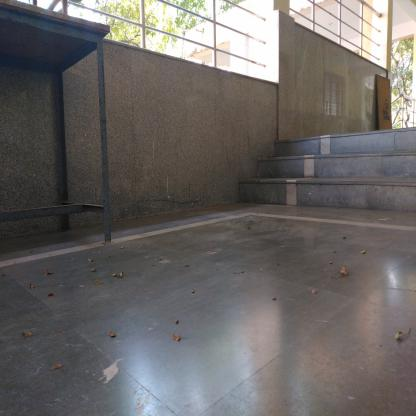stairs: (276, 129, 413, 210)
